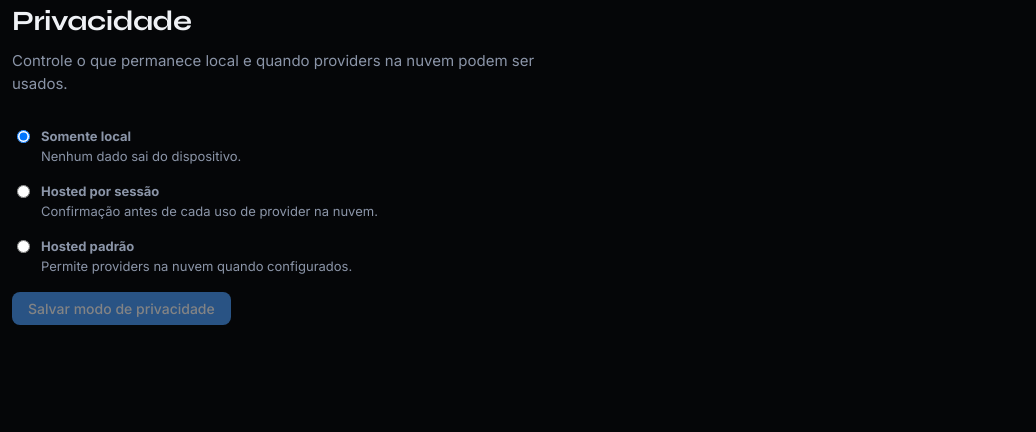
Test case: Privacy settings UI › shows hosted warning when switching to hosted mode
Check: the label with test id "privacy-hosted_default" is shown, box [17, 238, 352, 274]
Click the 3rd radio button.
click(24, 246)  # box [17, 240, 30, 253]
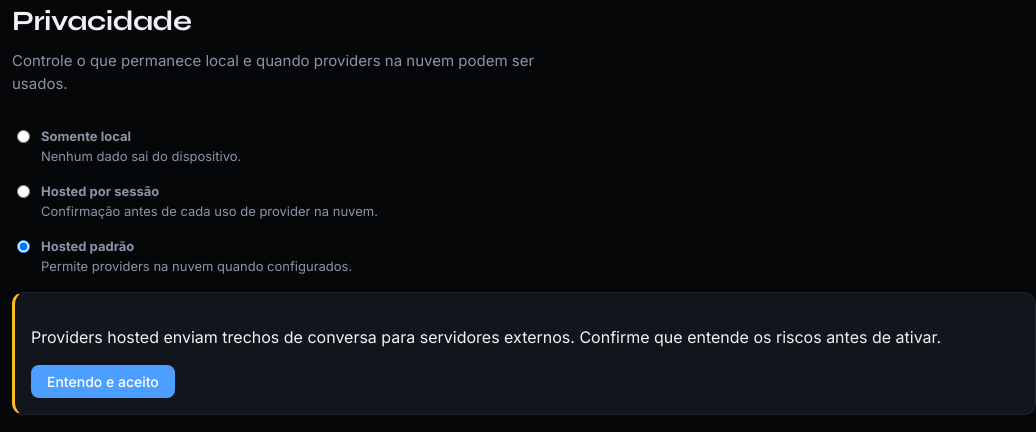
Check: the element with test id "hosted-privacy-warning" is shown, box [12, 292, 1035, 415]
